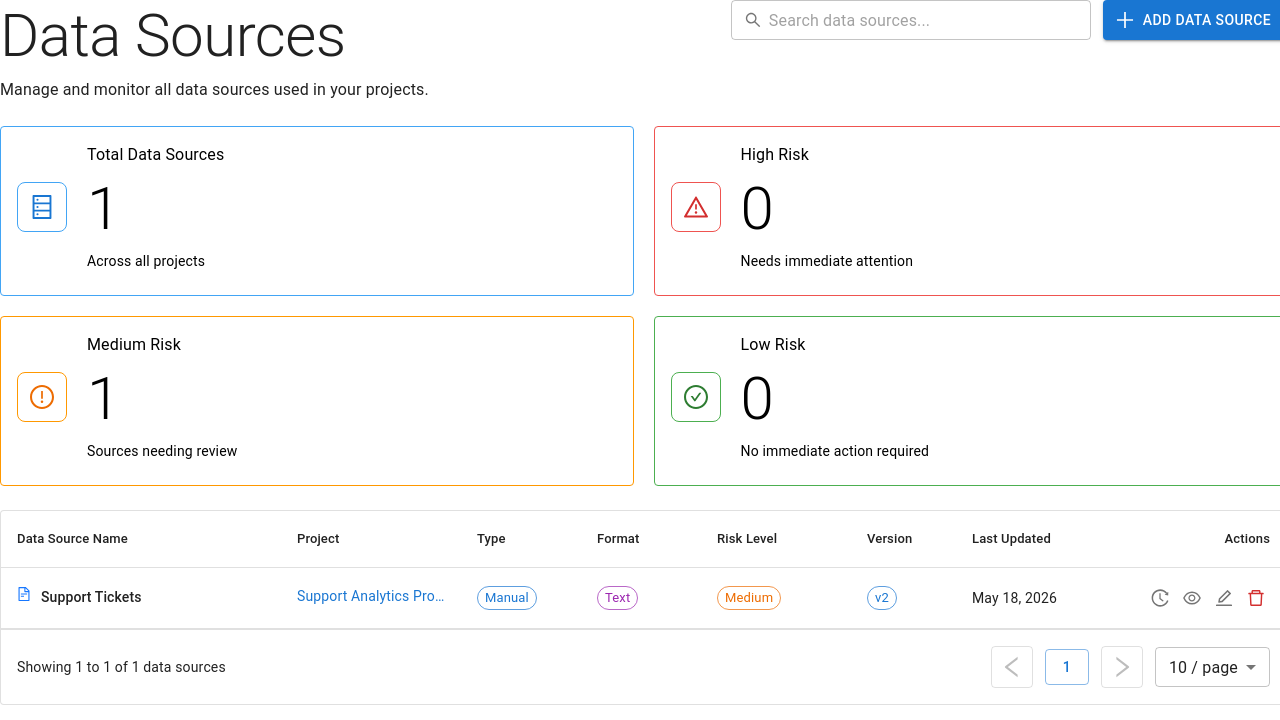
it: DataSources page › opens dataset preview when clicking a data source row
The image size is (1280, 720).
Expected: the heading "Support Tickets" is shown, [41,587,142,609]
Click the row "Support Tickets".
click(640, 598)  # box [1,568,1279,628]
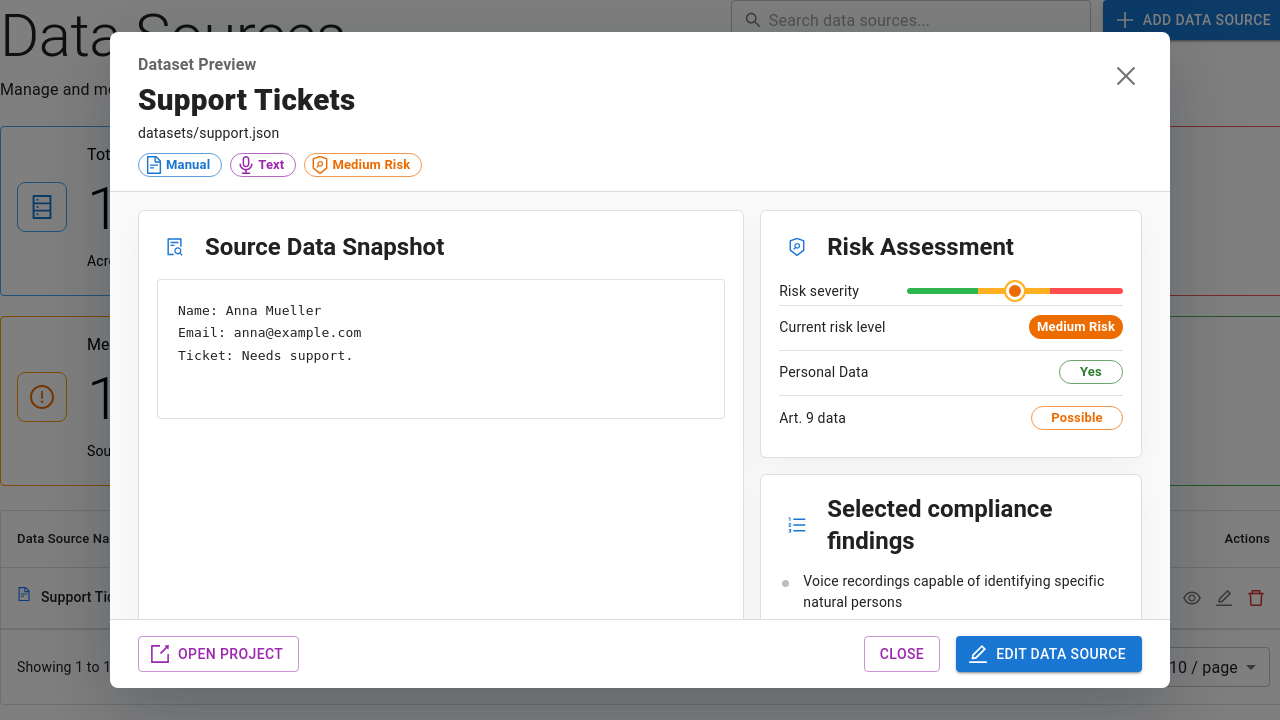
Now the dialog "Dataset Preview" is shown
Now the text "Email: anna@example.com" is shown, box [178,303,362,363]
Now the heading "Risk Assessment" is shown, box [827,231,1014,263]
